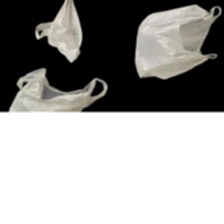plastic_bag: (131, 0, 224, 82), (3, 64, 110, 114), (33, 0, 86, 67)
